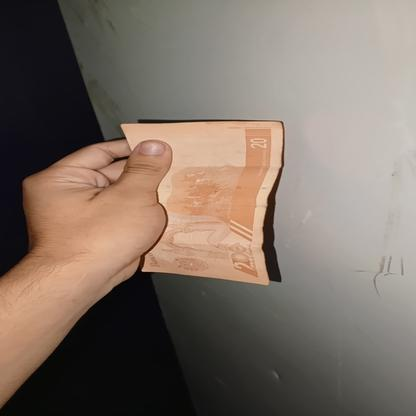twenty-back-vef: (121, 121, 284, 286)
